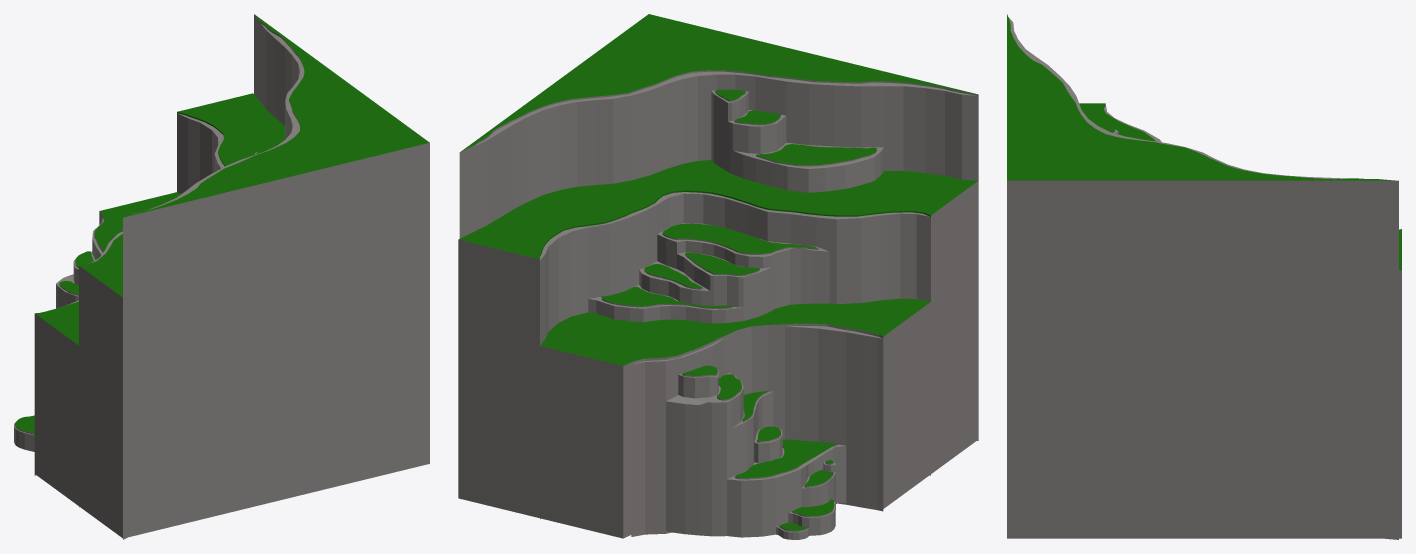
The model's file is StairWedge.fbx.
3 views of the same model, side by side, from view 1: azimuth 30°, elevation 25°; view 2: azimuth 150°, elevation 25°; view 3: azimuth 270°, elevation 25° (orthographic). The views are drawn at different scales.
Parts seen in each view (by area): view 1: Plane.013; view 2: Plane.013; view 3: Plane.013.
Boxes of the visible parts, x1,y1,x2,y2 form: Plane.013: (14,14,429,539); Plane.013: (458,14,978,539); Plane.013: (1007,14,1401,539).
Bounding box in the file's own units: 100 × 101 × 100.
